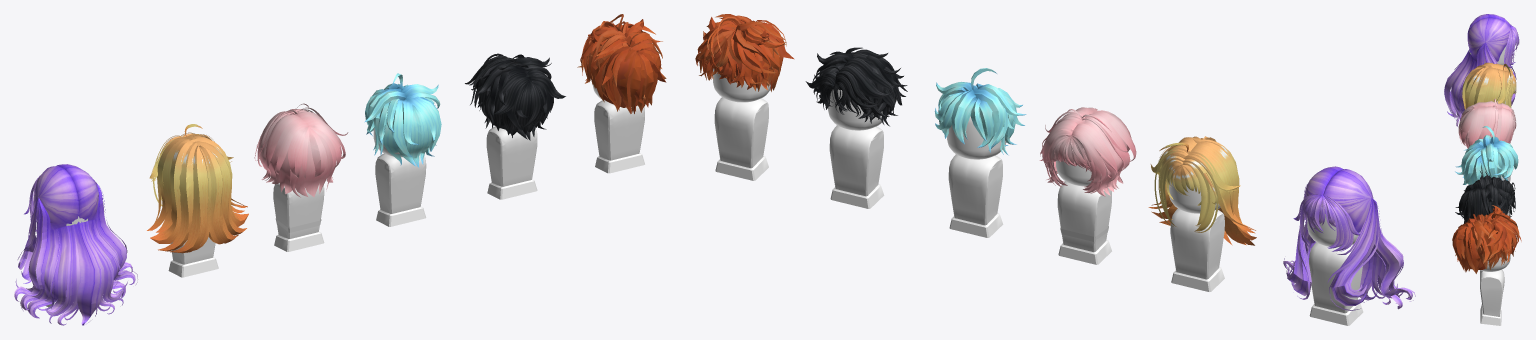
The model's file is hair_2.glb.
3 views of the same model, side by side, from view 1: azimuth 30°, elevation 25°; view 2: azimuth 150°, elevation 25°; view 3: azimuth 270°, elevation 25° (orthographic). The views are drawn at different scales.
Visible parts, largest first — view 1: Object_13, Object_3, Object_15, Object_8, Object_12, Object_6, Object_11, Object_10, Object_14, Object_7, Object_4; view 2: Object_15, Object_13, Object_8, Object_12, Object_9, Object_6, Object_10, Object_14, Object_4, Object_3, Object_11, Object_7 (+1 smaller); view 3: Object_13, Object_11, Object_6, Object_8, Object_12, Object_3, Object_7, Object_15, Object_4, Object_9.
Boxes of the visible parts, <box> form: Object_13: <box>14,164,137,325</box>; Object_3: <box>147,133,248,253</box>; Object_15: <box>46,100,644,308</box>; Object_8: <box>254,103,348,197</box>; Object_12: <box>465,53,565,140</box>; Object_6: <box>364,73,441,167</box>; Object_11: <box>580,14,666,113</box>; Object_10: <box>375,153,426,226</box>; Object_14: <box>273,183,324,251</box>; Object_7: <box>577,21,666,111</box>; Object_4: <box>149,124,233,205</box>; Object_15: <box>714,97,1363,325</box>; Object_13: <box>1283,166,1415,310</box>; Object_8: <box>1039,107,1136,196</box>; Object_12: <box>805,47,907,126</box>; Object_9: <box>713,68,1359,247</box>; Object_6: <box>934,68,1026,155</box>; Object_10: <box>948,154,1003,237</box>; Object_14: <box>1057,181,1111,264</box>; Object_4: <box>1150,142,1240,232</box>; Object_3: <box>1148,136,1256,245</box>; Object_11: <box>696,15,794,89</box>; Object_7: <box>695,14,786,91</box>; Object_13: <box>1444,14,1519,126</box>; Object_11: <box>1452,207,1521,272</box>; Object_6: <box>1455,126,1518,184</box>; Object_8: <box>1458,98,1516,148</box>; Object_12: <box>1455,171,1515,224</box>; Object_3: <box>1462,62,1509,109</box>; Object_7: <box>1455,205,1519,273</box>; Object_15: <box>1480,269,1504,325</box>; Object_4: <box>1496,63,1516,107</box>; Object_9: <box>1469,45,1510,271</box>.
Size of the model in its own units: 13.98 by 3.13 by 1.93.
14 materials, 8 textured.
